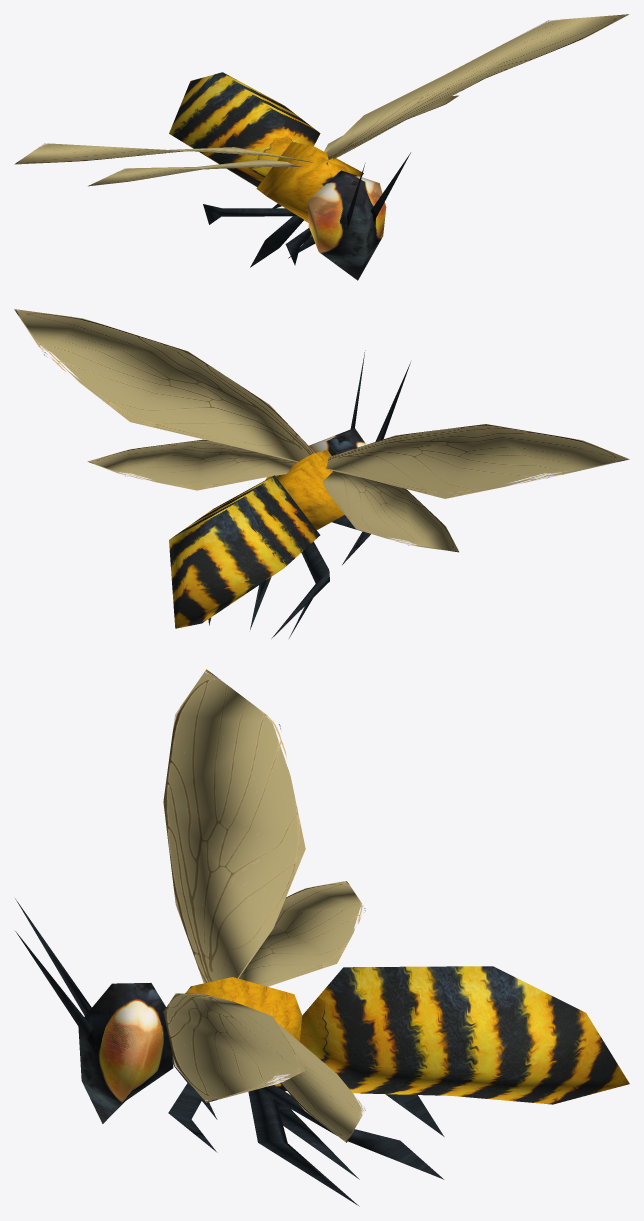
File: Particle Bee Mdl.fbx
3 views of the same model, one above another, from view 1: azimuth 30°, elevation 25°; view 2: azimuth 150°, elevation 25°; view 3: azimuth 270°, elevation 25° (orthographic). The views are drawn at different scales.
Parts seen in each view (by area): view 1: ParticleBeeMesh; view 2: ParticleBeeMesh; view 3: ParticleBeeMesh.
Part boxes in pixels (box(x1,y1,x2,y2)): ParticleBeeMesh: box(14, 14, 628, 280); ParticleBeeMesh: box(14, 309, 629, 638); ParticleBeeMesh: box(15, 669, 629, 1206).
Size of the model in its own units: 10.46 by 3.46 by 6.28.
